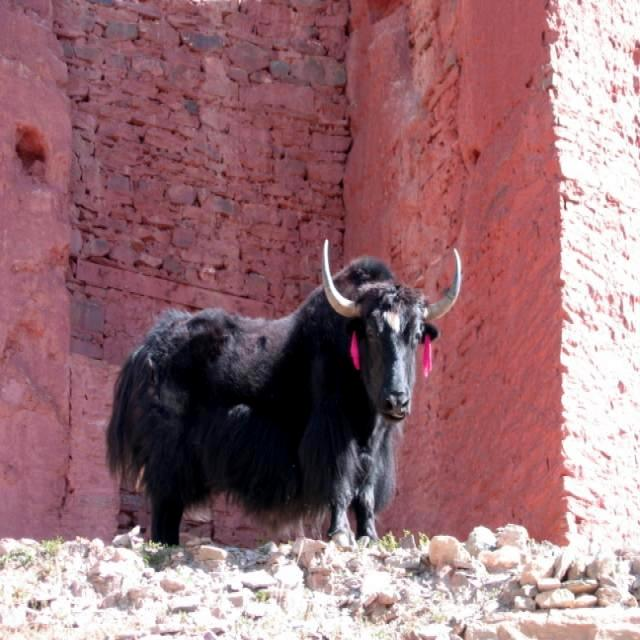COW: (106, 242, 461, 544)
